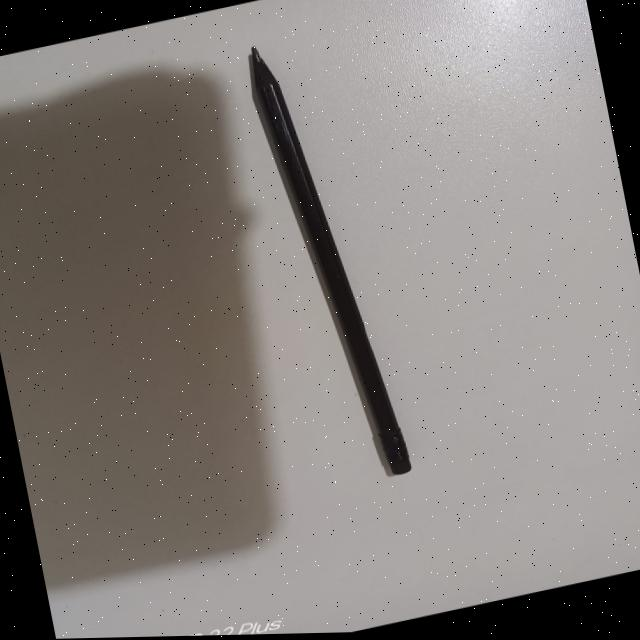pencil: (208, 38, 438, 495)
